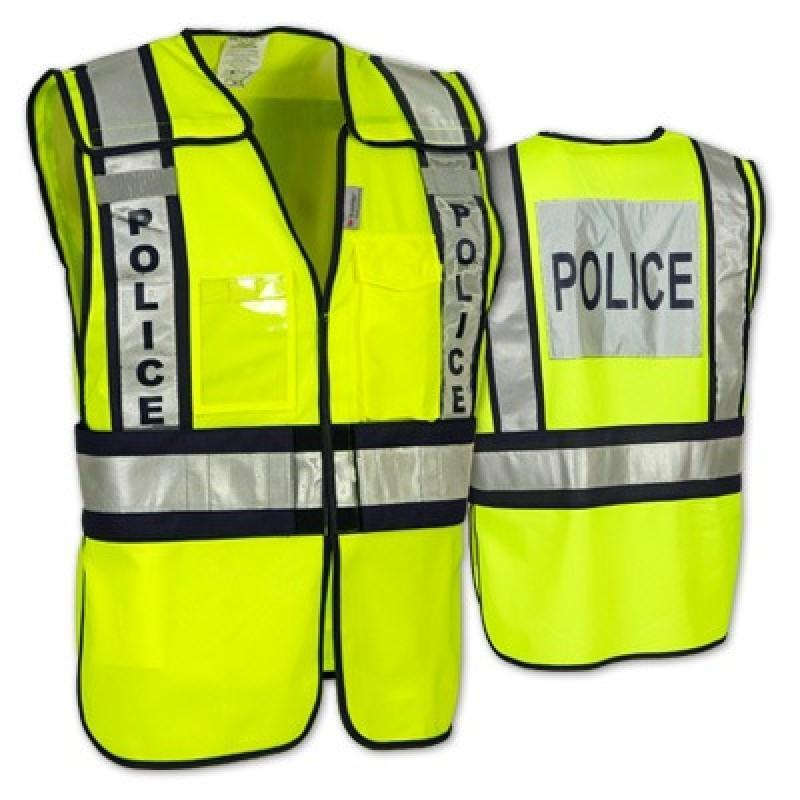vest: (25, 23, 505, 775), (468, 117, 766, 674)
